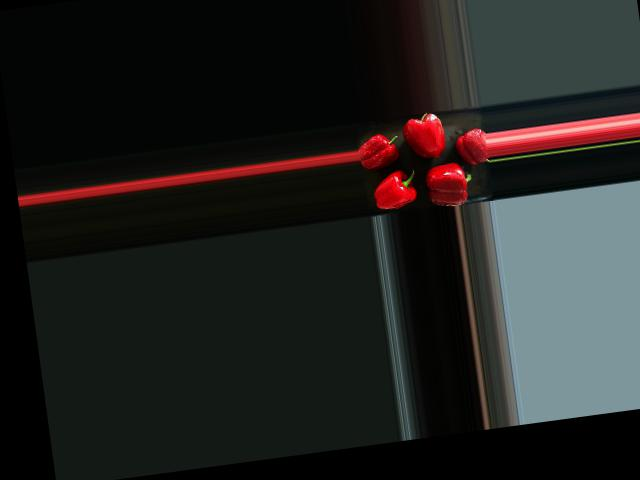bell_pepper: (452, 121, 489, 169)
